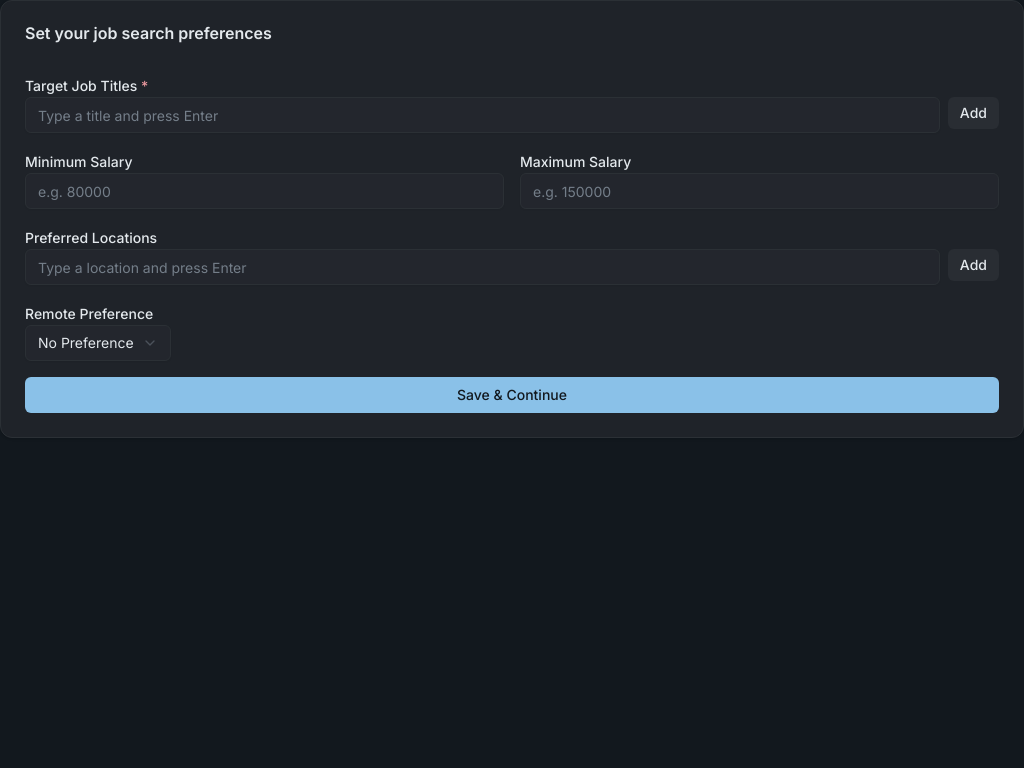
PreferencesStep › [P1] should show API error feedback on server failure
This screenshot has width=1024, height=768.
Type "Engineer" into the field labelled "Target Job Titles *" at {"x": 482, "y": 115}, box 25,97 -> 940,133
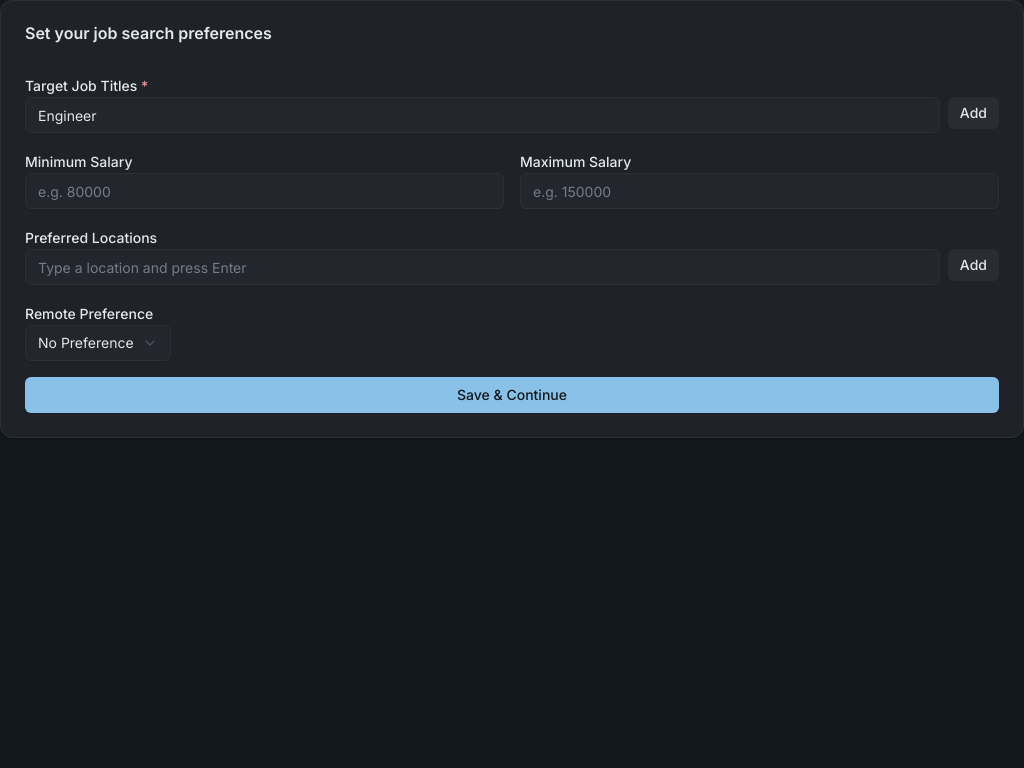
Press Enter in the field labelled "Target Job Titles *", box 25,97 -> 940,133
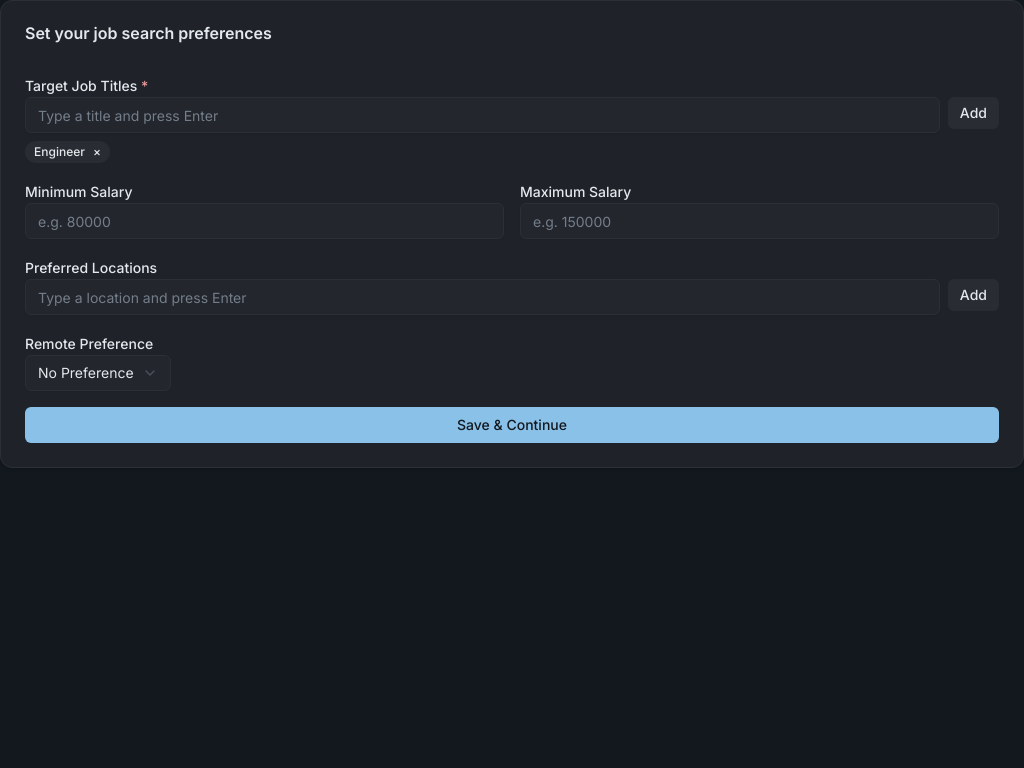
Click the button "Save & Continue" at {"x": 512, "y": 425}, box 25,407 -> 999,443
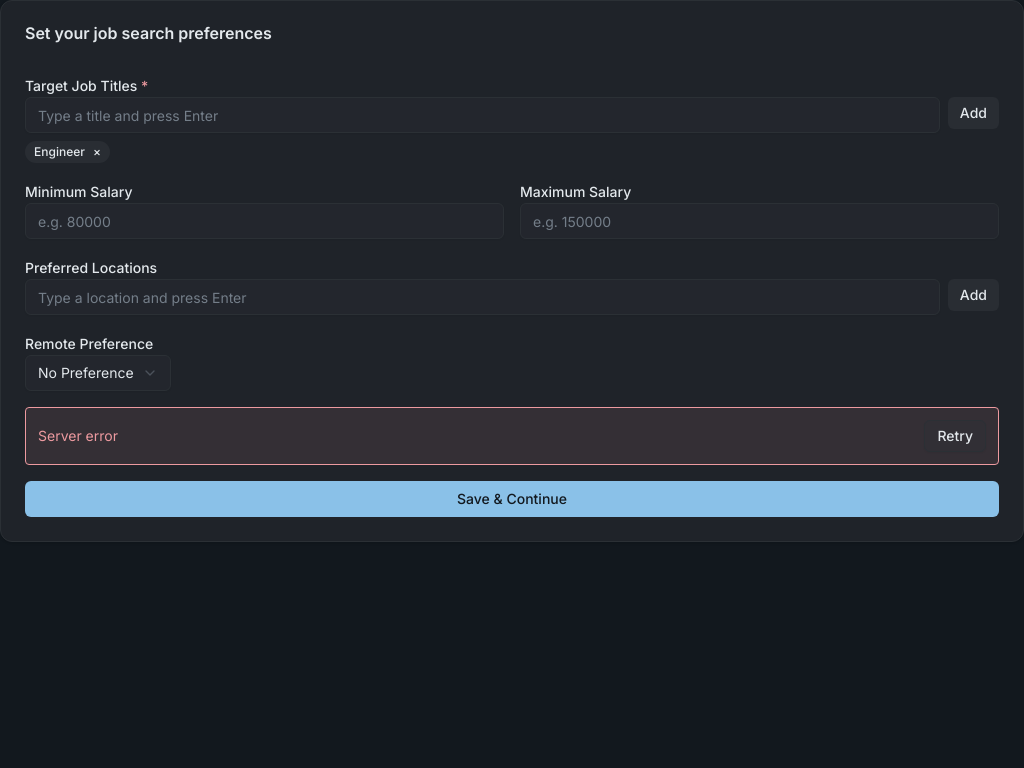
Expected: the text "Server error" is shown, 38,426 -> 118,446
